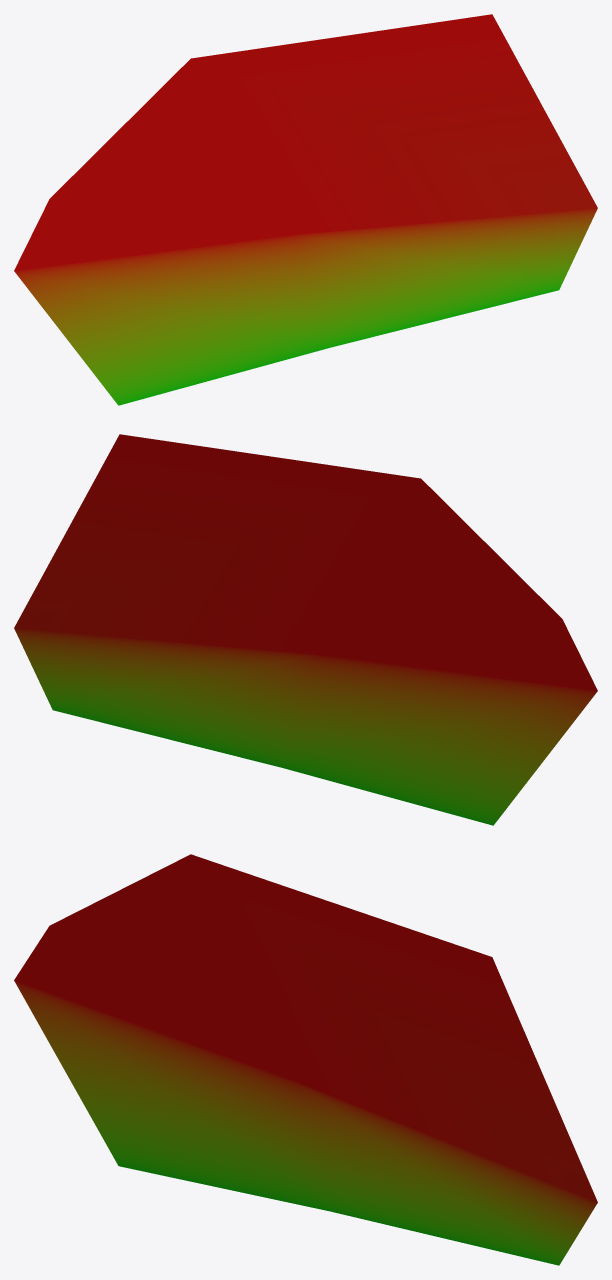
The model's file is Wild Grass_LOD4_Var5_vdilbaiia.fbx.
3 views of the same model, one above another, from view 1: azimuth 30°, elevation 25°; view 2: azimuth 150°, elevation 25°; view 3: azimuth 330°, elevation 25° (orthographic).
Parts seen in each view (by area): view 1: _vp0e_Var5_LOD4; view 2: _vp0e_Var5_LOD4; view 3: _vp0e_Var5_LOD4.
Part boxes in pixels (x1=…): _vp0e_Var5_LOD4: x1=14, y1=14, x2=597, y2=405; _vp0e_Var5_LOD4: x1=14, y1=434, x2=597, y2=825; _vp0e_Var5_LOD4: x1=14, y1=854, x2=597, y2=1265.
Bounding box in the file's own units: 150 × 80.9 × 9.64e-06.
